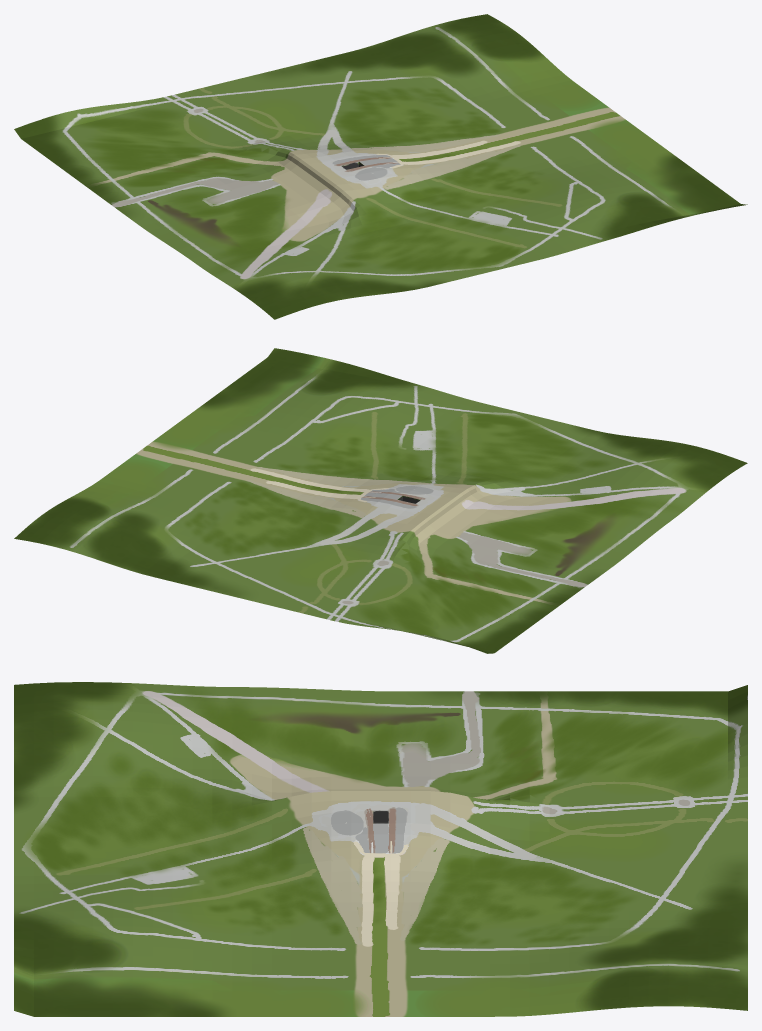
File: chaoterra.fbx
The picture shows the model from 3 angles, top to bottom: view 1: azimuth 30°, elevation 25°; view 2: azimuth 150°, elevation 25°; view 3: azimuth 270°, elevation 25°; orthographic projection. The views are drawn at different scales.
Parts seen in each view (by area): view 1: Ground; view 2: Ground; view 3: Ground.
Boxes of the visible parts, bbox=[...] form: Ground: bbox=[14, 14, 747, 319]; Ground: bbox=[14, 348, 747, 653]; Ground: bbox=[14, 682, 747, 1016].
Size of the model in its own units: 10025 by 305 by 9558.
